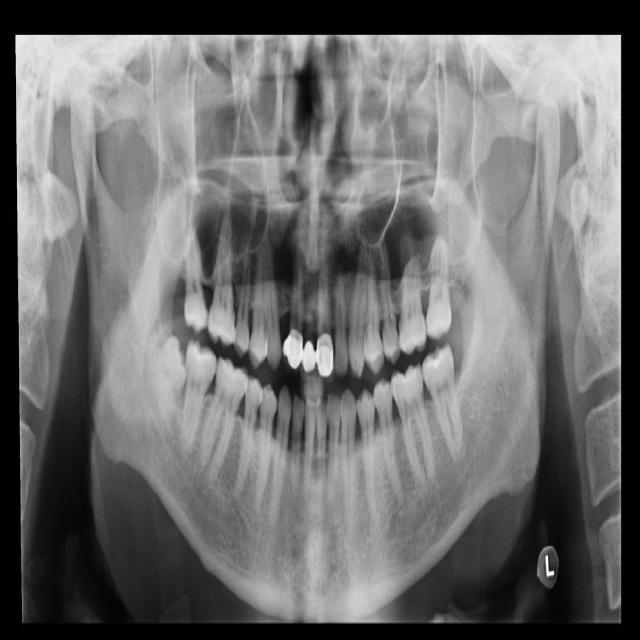52: (280, 328, 305, 375), (314, 332, 337, 383), (298, 331, 319, 386)
73: (598, 570, 602, 586)
BioHorizons Implant: (419, 215, 454, 341)
Blue Sky Bio Implant: (418, 343, 466, 463)
Caries: (176, 226, 210, 333)
Implant: (177, 339, 219, 453)
Keystone Dental Implant: (145, 331, 204, 397)
